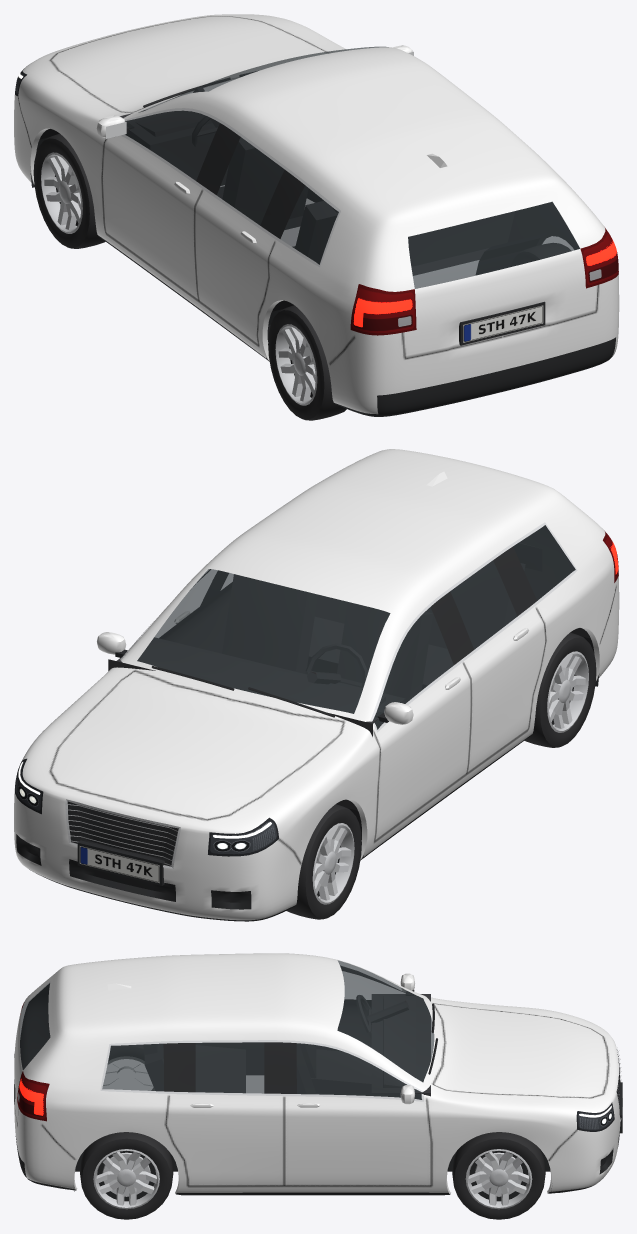
Rendered from car_hatch.glb.
3 views of the same model, one above another, from view 1: azimuth 30°, elevation 25°; view 2: azimuth 150°, elevation 25°; view 3: azimuth 270°, elevation 25° (orthographic). The views are drawn at different scales.
Parts seen in each view (by area): view 1: body, wheel_rl, wheel_fl, wheel_rr; view 2: body, wheel_fl, wheel_rl; view 3: body, wheel_fr, wheel_rr, wheel_rl.
Boxes of the visible parts, bbox=[...] form: body: bbox=[14, 14, 619, 416]; wheel_rl: bbox=[268, 305, 346, 420]; wheel_fl: bbox=[33, 133, 105, 248]; wheel_rr: bbox=[510, 243, 570, 266]; body: bbox=[14, 449, 619, 921]; wheel_fl: bbox=[286, 804, 361, 919]; wheel_rl: bbox=[524, 632, 596, 747]; body: bbox=[14, 953, 622, 1195]; wheel_fr: bbox=[452, 1132, 545, 1219]; wheel_rr: bbox=[80, 1132, 173, 1219]; wheel_rl: bbox=[103, 1045, 154, 1090].
Size of the model in its own units: 2.03 by 1.45 by 4.32.
Materials: 10 (4 with a texture image).
